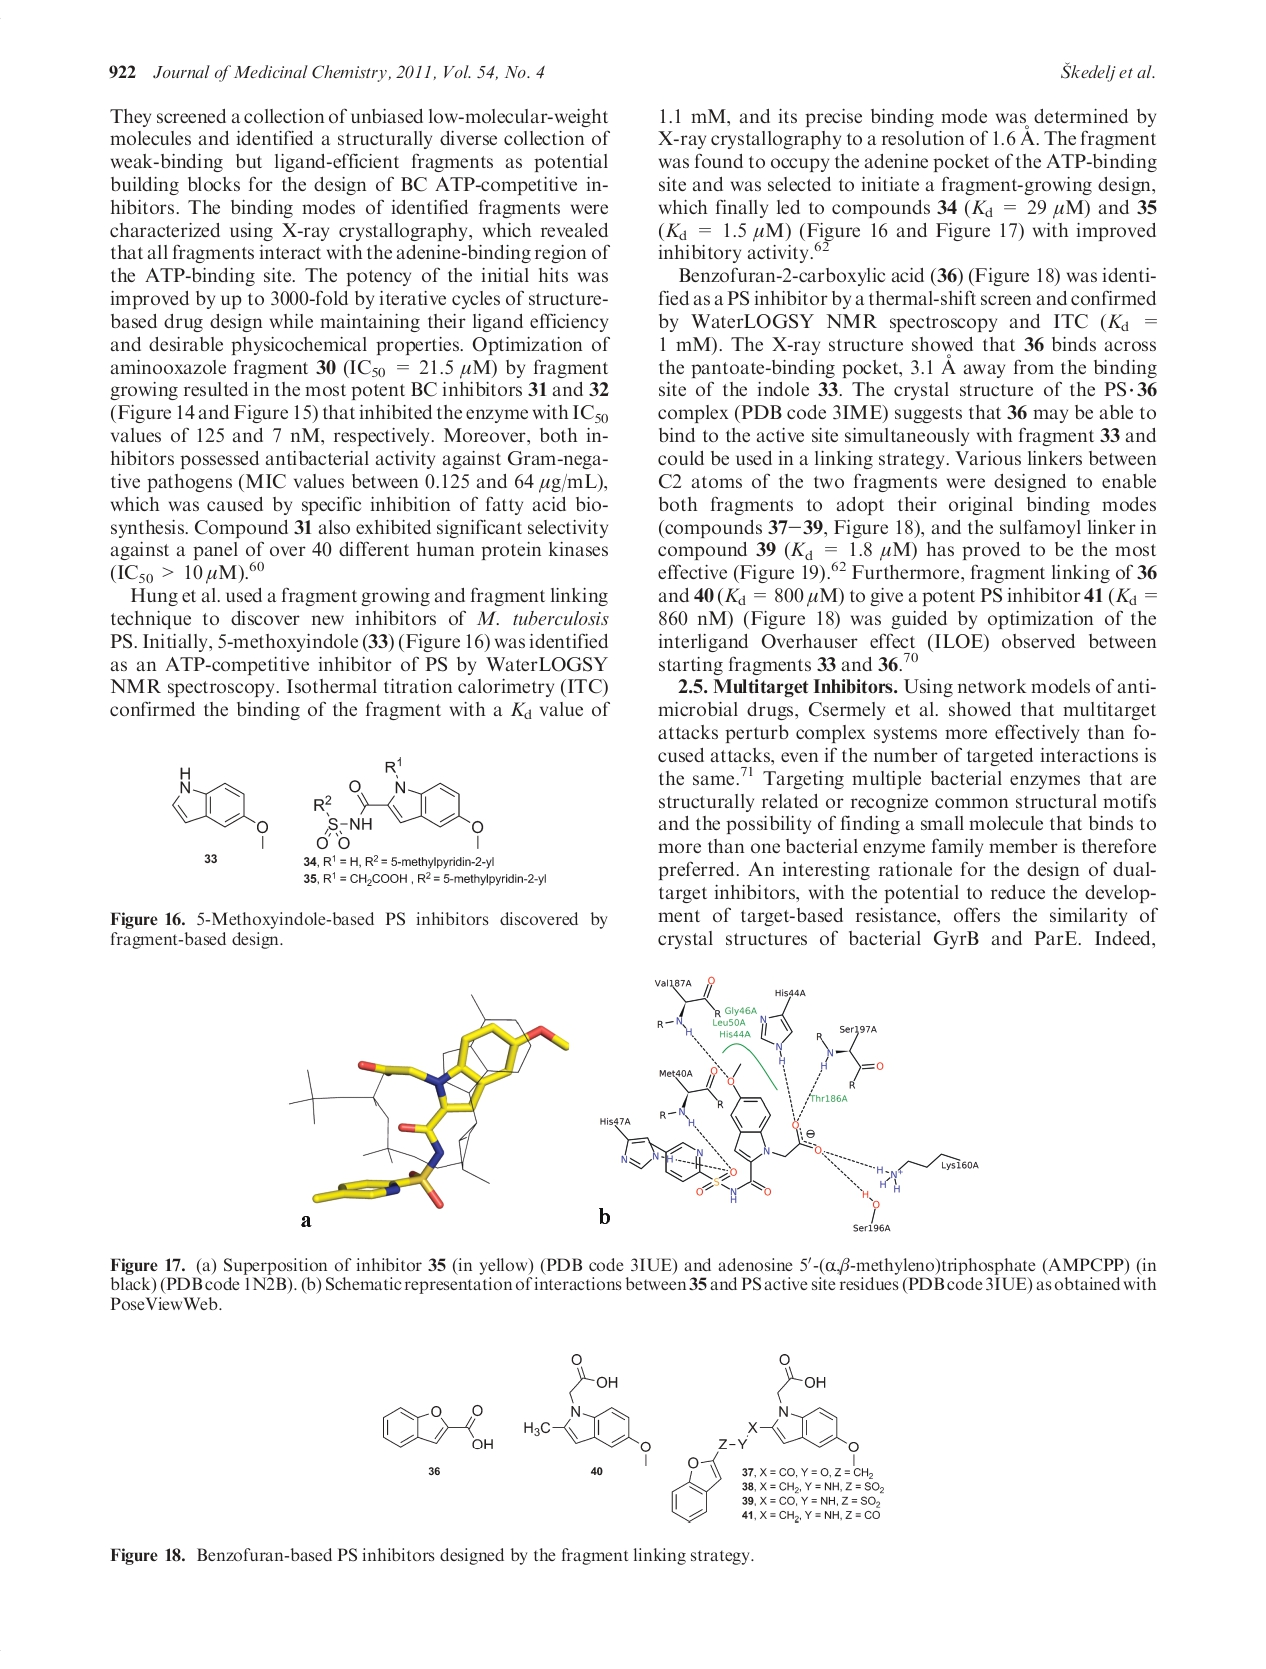exist_molecular: (670, 1352, 862, 1525), (598, 1063, 828, 1204), (311, 754, 487, 852), (523, 1350, 656, 1467), (169, 759, 273, 848), (378, 1398, 496, 1458), (648, 965, 725, 1039), (811, 1021, 890, 1091), (872, 1152, 979, 1194), (653, 1063, 723, 1126), (754, 983, 807, 1067), (850, 1185, 899, 1235)
